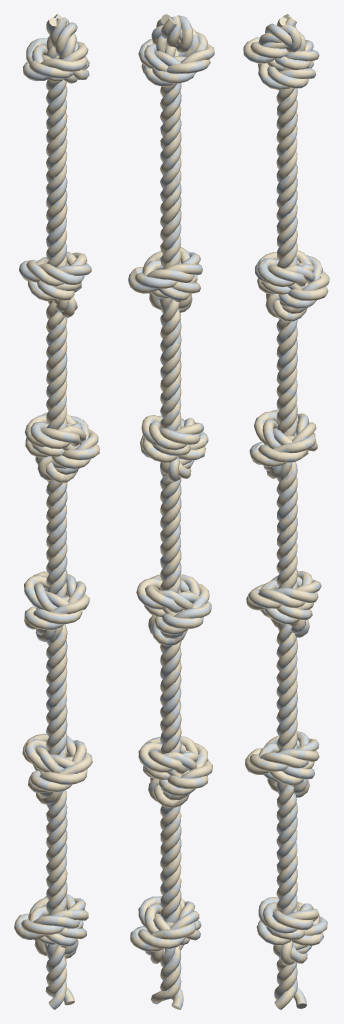
Rendered from CUERDA-NUDOS.glb.
3 views of the same model, side by side, from view 1: azimuth 90°, elevation 25°; view 2: azimuth 150°, elevation 25°; view 3: azimuth 330°, elevation 25° (orthographic).
Visible parts, largest first — view 1: SketchUp; view 2: SketchUp; view 3: SketchUp.
Boxes of the visible parts, x1=… form: SketchUp: x1=14, y1=14, x2=99, y2=1009; SketchUp: x1=128, y1=14, x2=214, y2=1009; SketchUp: x1=243, y1=14, x2=329, y2=1009.
Size of the model in its own units: 0.2442 by 3.04 by 0.2386.
